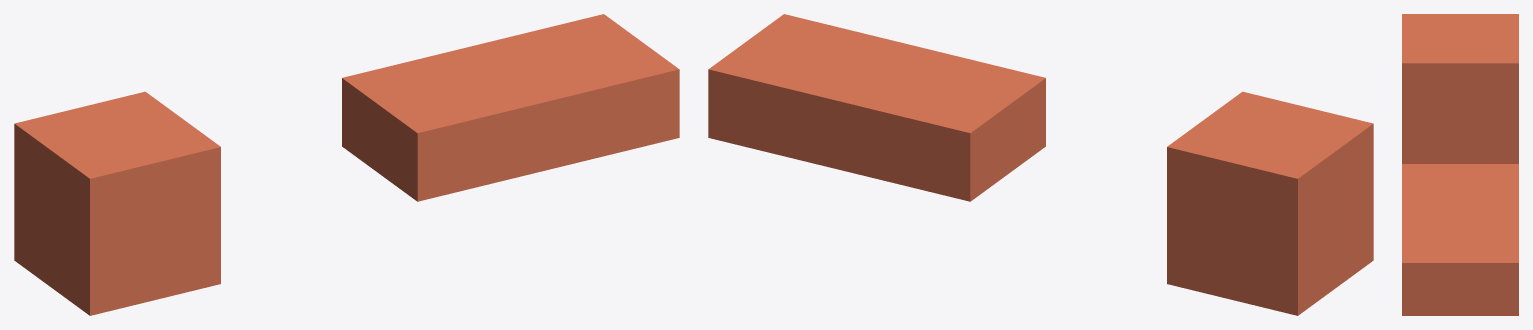
File: glb_unknown_extension_required.glb
3 renders of one model, left to right at view 1: azimuth 30°, elevation 25°; view 2: azimuth 150°, elevation 25°; view 3: azimuth 270°, elevation 25°, orthographic. The views are drawn at different scales.
Parts seen in each view (by area): view 1: BoxB, BoxA; view 2: BoxB, BoxA; view 3: BoxB, BoxA.
Boxes of the visible parts, x1,y1,x2,y2 form: BoxB: [342, 14, 679, 201]; BoxA: [14, 91, 220, 315]; BoxB: [708, 14, 1045, 201]; BoxA: [1167, 91, 1373, 315]; BoxB: [1402, 164, 1518, 315]; BoxA: [1402, 14, 1518, 163].
Size of the model in its own units: 4.5 by 1 by 1.
